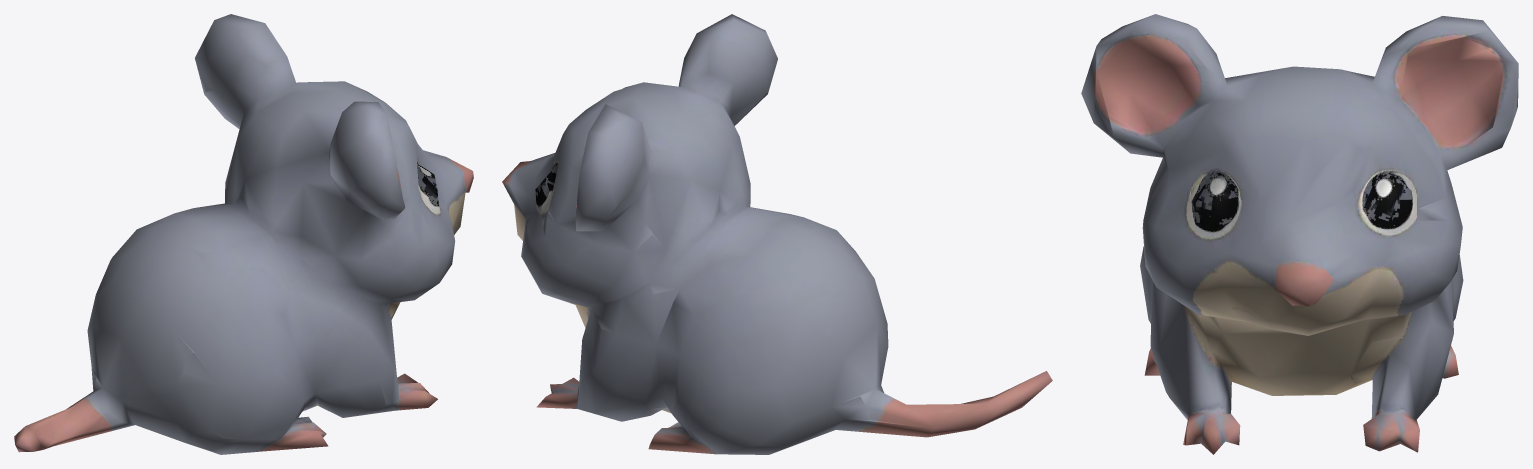
File: toad-thing-cloud-mouse.glb
3 views of the same model, side by side, from view 1: azimuth 30°, elevation 25°; view 2: azimuth 150°, elevation 25°; view 3: azimuth 270°, elevation 25° (orthographic). The views are drawn at different scales.
Visible parts, largest first — view 1: lo; view 2: lo; view 3: lo.
Part boxes in pixels (left/top/right/bottom): lo: left=14, top=14, right=473, bottom=454; lo: left=502, top=14, right=1052, bottom=454; lo: left=1081, top=14, right=1518, bottom=454.
Bounding box in the file's own units: 0.08 × 0.0502 × 0.0511.
1 material, 1 textured.
